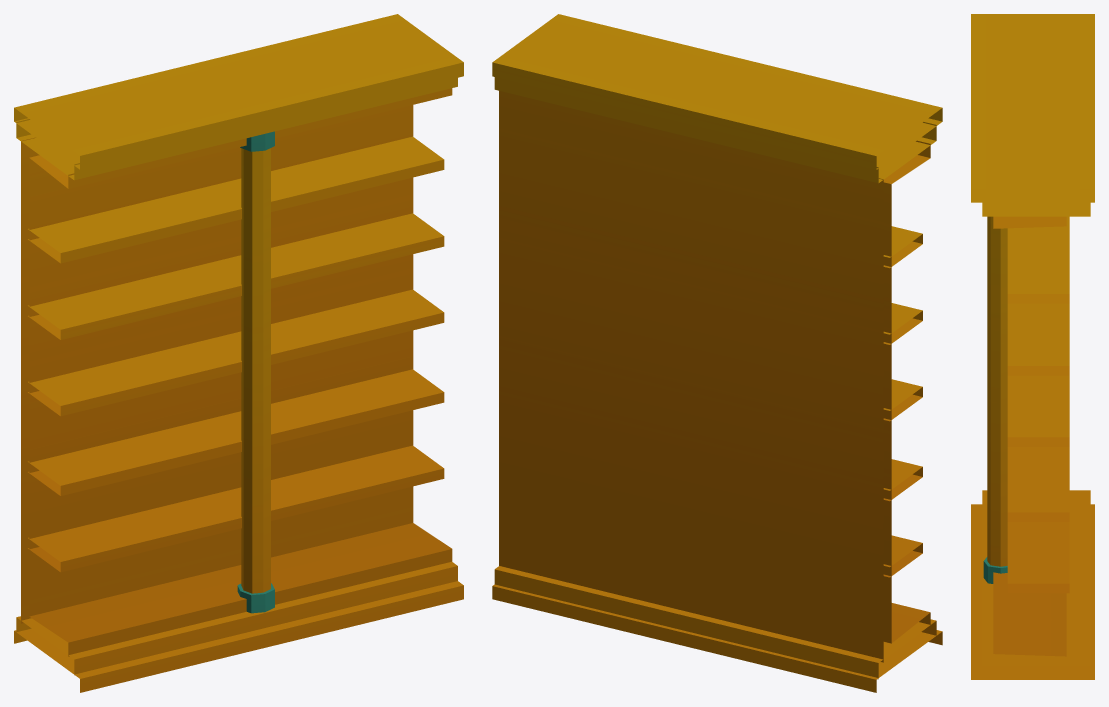
File: Bookshelf 02 Center.fbx
The picture shows the model from 3 angles, left to right: view 1: azimuth 30°, elevation 25°; view 2: azimuth 150°, elevation 25°; view 3: azimuth 270°, elevation 25°; orthographic projection. The views are drawn at different scales.
Visible parts, largest first — view 1: Bookshelf 02 Center; view 2: Bookshelf 02 Center; view 3: Bookshelf 02 Center.
Part boxes in pixels (x1,y1,x2,y2): Bookshelf 02 Center: [14, 14, 463, 692]; Bookshelf 02 Center: [492, 14, 942, 692]; Bookshelf 02 Center: [971, 14, 1094, 679].
Bounding box in the file's own units: 200 × 267 × 59.62.
